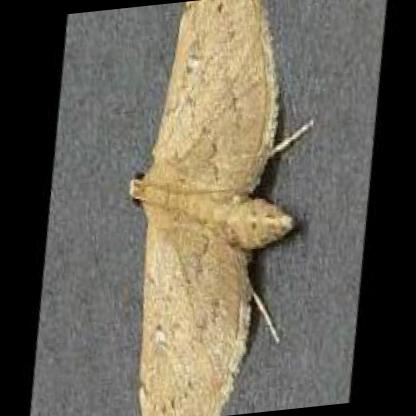Leaf Webber: (121, 0, 321, 416)
